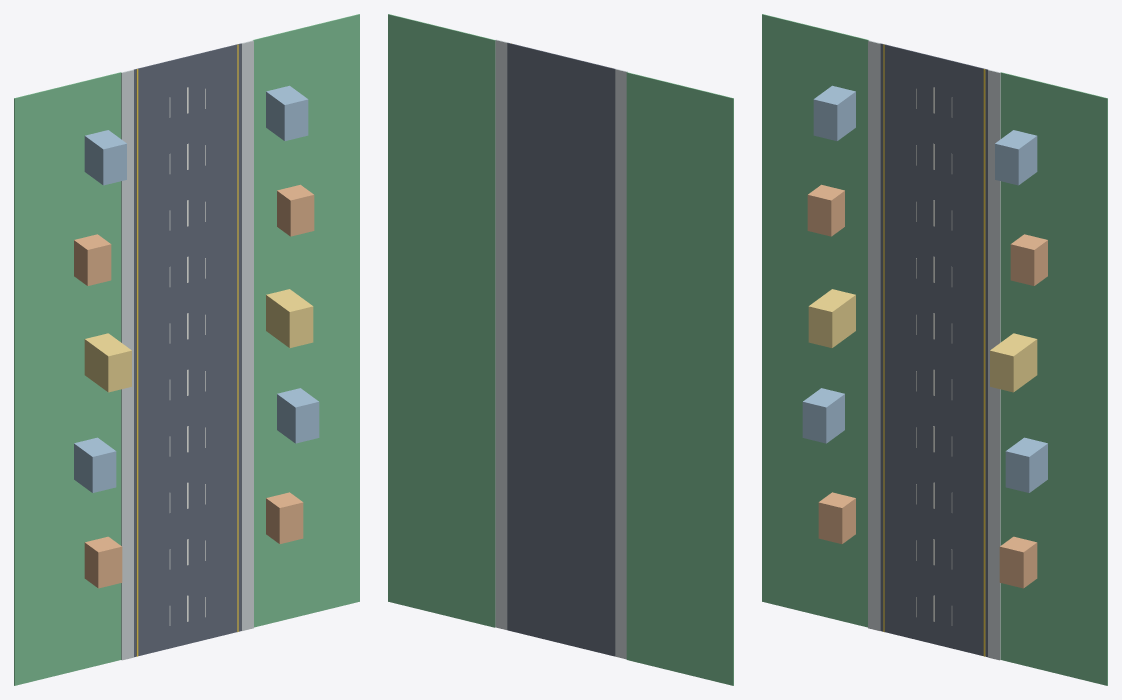
The model's file is necuzah-road.glb.
3 views of the same model, side by side, from view 1: azimuth 30°, elevation 25°; view 2: azimuth 150°, elevation 25°; view 3: azimuth 330°, elevation 25° (orthographic).
Visible parts, largest first — view 1: NECUZAH Starter Road Scene; view 2: NECUZAH Starter Road Scene; view 3: NECUZAH Starter Road Scene.
Part boxes in pixels (x1,y1,x2,y2): NECUZAH Starter Road Scene: [14, 14, 359, 685]; NECUZAH Starter Road Scene: [388, 14, 733, 685]; NECUZAH Starter Road Scene: [762, 14, 1107, 685].
Bounding box in the file's own units: 32 × 52 × 3.88.
